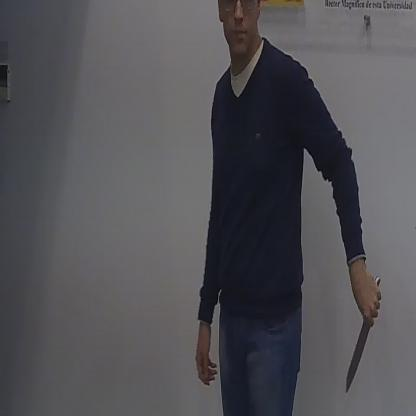knife: (341, 268, 386, 404)
